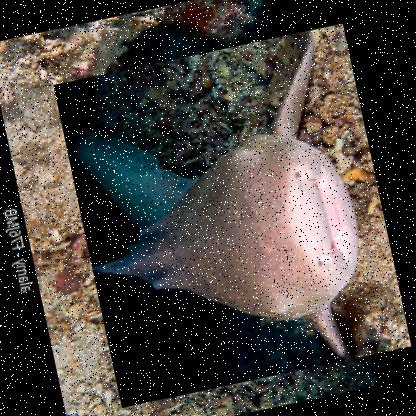zebra_shark: (52, 21, 411, 407)
